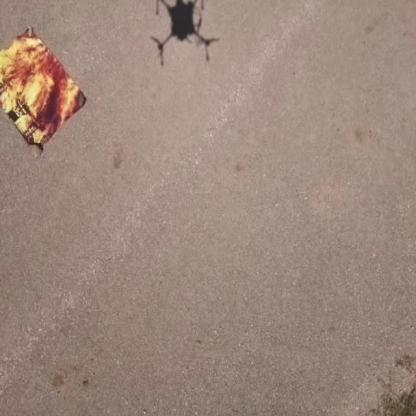fire-poster: (0, 24, 87, 156)
